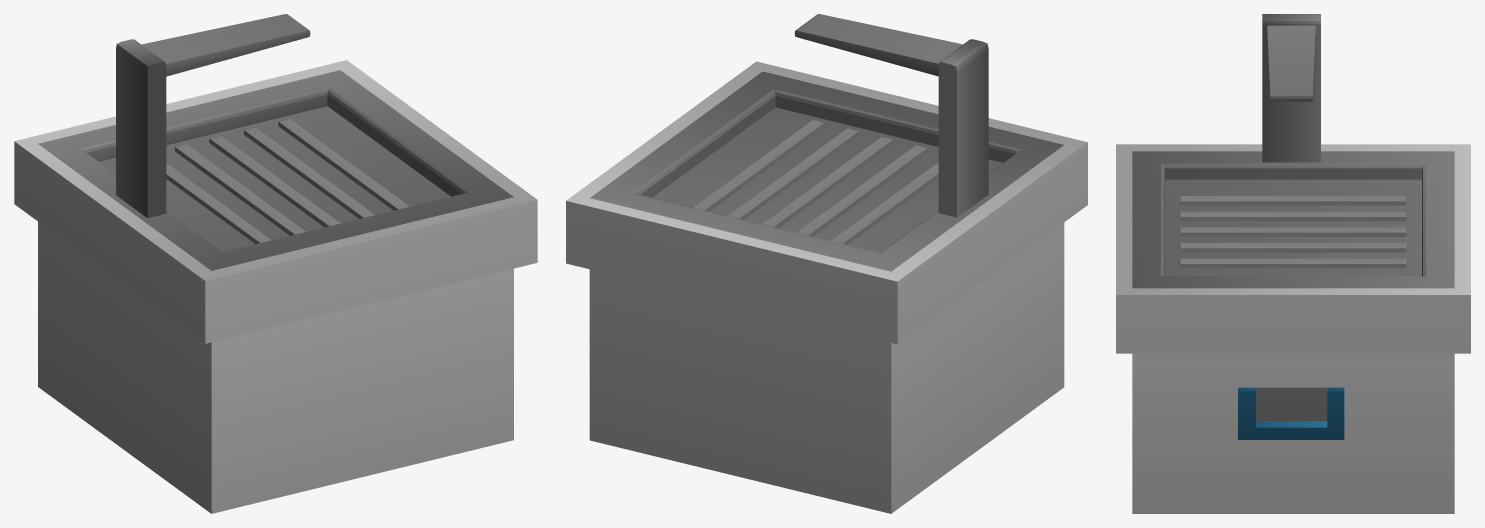
File: Mesa_Cubos.fbx
3 renders of one model, left to right at view 1: azimuth 30°, elevation 25°; view 2: azimuth 150°, elevation 25°; view 3: azimuth 270°, elevation 25°, orthographic. The views are drawn at different scales.
Parts seen in each view (by area): view 1: Mesa_Cubos; view 2: Mesa_Cubos; view 3: Mesa_Cubos.
Boxes of the visible parts, <box> form: Mesa_Cubos: <box>14,14,537,513</box>; Mesa_Cubos: <box>566,14,1087,513</box>; Mesa_Cubos: <box>1116,14,1470,513</box>.
Bounding box in the file's own units: 22.12 × 25.12 × 22.01.
